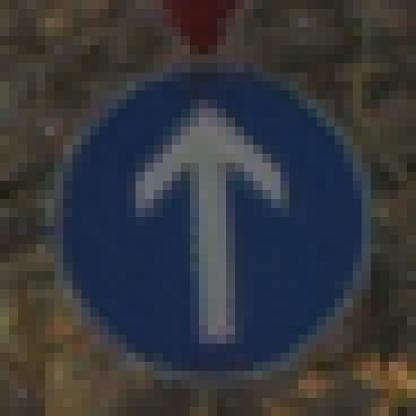AheadOnly: (46, 46, 372, 372)
